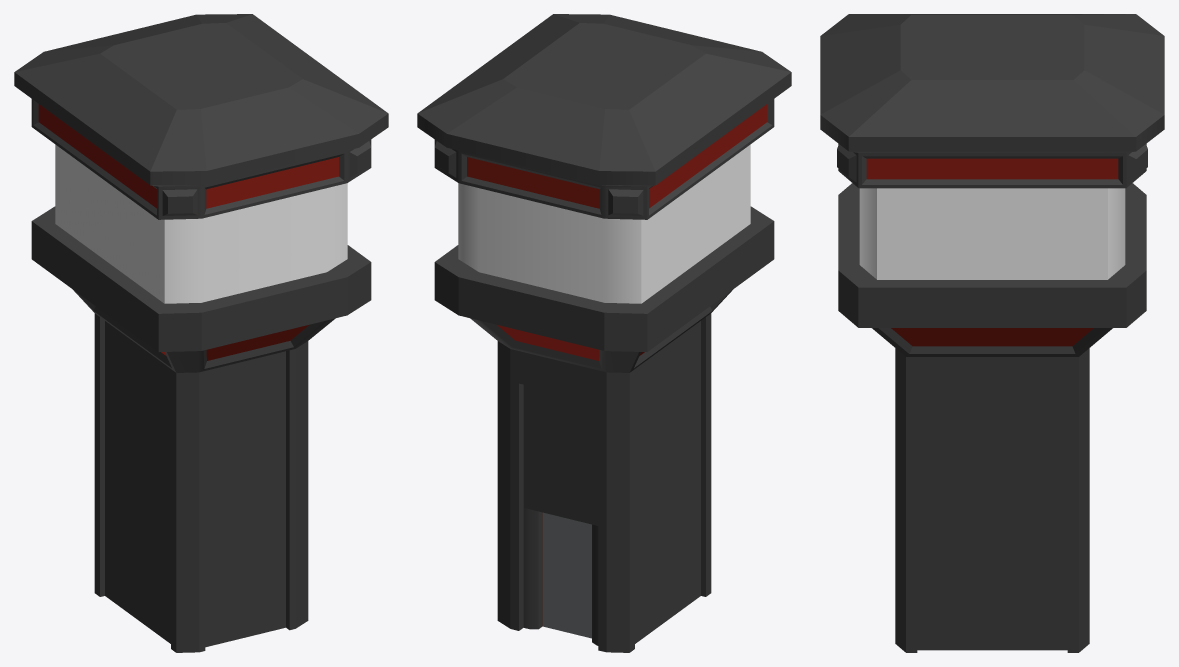
Rendered from Guard Tower.fbx.
3 views of the same model, side by side, from view 1: azimuth 30°, elevation 25°; view 2: azimuth 150°, elevation 25°; view 3: azimuth 270°, elevation 25° (orthographic). The views are drawn at different scales.
Visible parts, largest first — view 1: Guard_Tower_Base, Tower_Glass; view 2: Guard_Tower_Base, Tower_Glass; view 3: Guard_Tower_Base, Tower_Glass.
Boxes of the visible parts, left/top/right/bottom form: Guard_Tower_Base: left=14, top=14, right=388, bottom=652; Tower_Glass: left=55, top=144, right=347, bottom=303; Guard_Tower_Base: left=417, top=14, right=791, bottom=652; Tower_Glass: left=458, top=144, right=750, bottom=303; Guard_Tower_Base: left=820, top=14, right=1164, bottom=652; Tower_Glass: left=859, top=188, right=1125, bottom=279.
Size of the model in its own units: 4.49 by 9.74 by 5.32.
